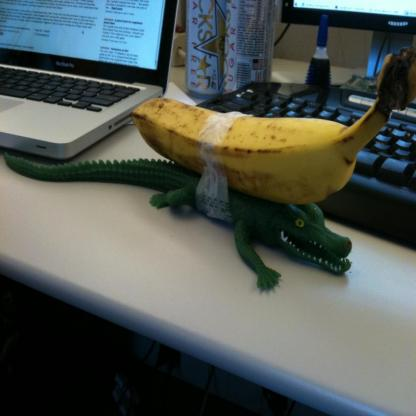board: (0, 0, 178, 157), (227, 0, 276, 96), (187, 0, 228, 100)
